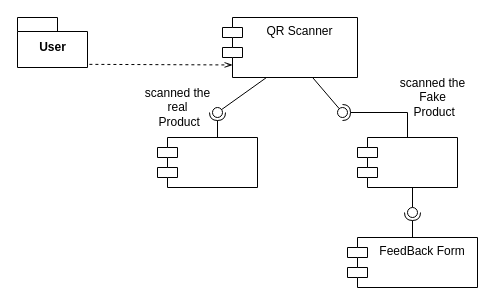
The diagram is 495 pixels wide and 305 high, and some of its shapes have lost their labels. The centre of each missing label's shape, as x and y in pixels:
"Fake" goes at pixel 407 162.
"Real" goes at pixel 207 162.
